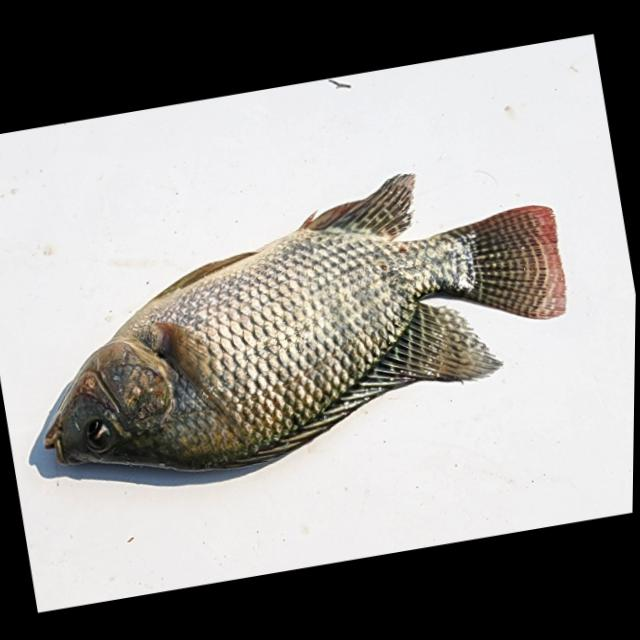Tilapia: (3, 141, 591, 503)
